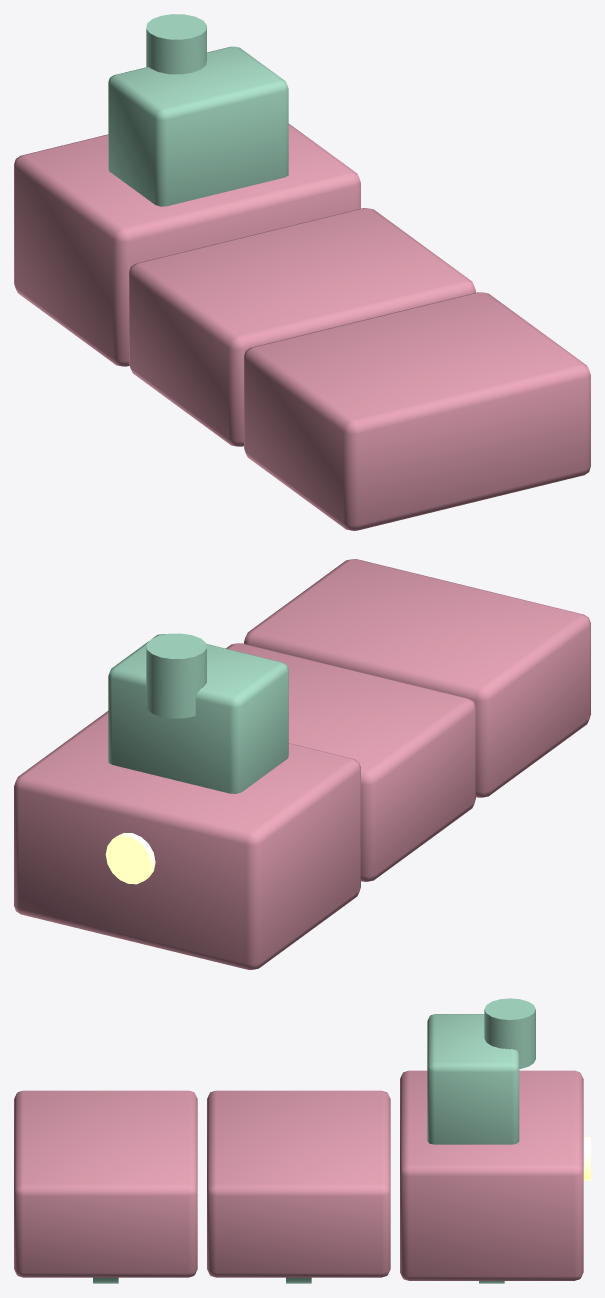
File: zone_pastel_toy_train.glb
3 renders of one model, top to bottom at view 1: azimuth 30°, elevation 25°; view 2: azimuth 150°, elevation 25°; view 3: azimuth 270°, elevation 25°, orthographic. The views are drawn at different scales.
Parts seen in each view (by area): view 1: zone_pastel_toy_train; view 2: zone_pastel_toy_train; view 3: zone_pastel_toy_train.
Part boxes in pixels (x1,y1,x2,y2): zone_pastel_toy_train: [14, 14, 590, 530]; zone_pastel_toy_train: [14, 559, 590, 969]; zone_pastel_toy_train: [14, 998, 590, 1283].
Bounding box in the file's own units: 1.3 × 1.45 × 3.14.
